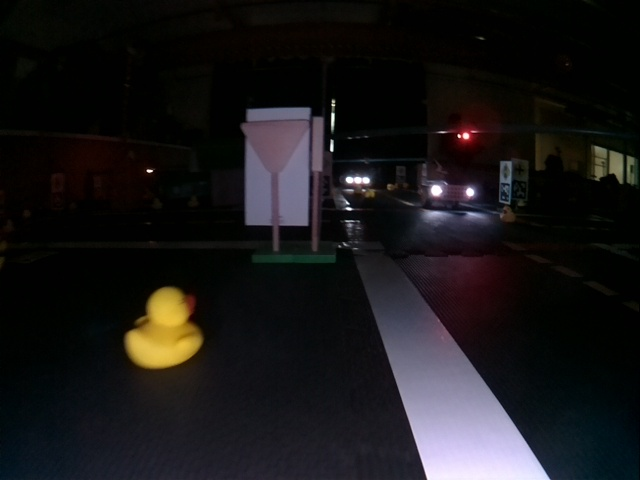Duckie: (126, 286, 202, 369), (499, 207, 516, 223), (366, 189, 376, 198)
Duckiebot: (420, 164, 475, 208), (343, 168, 372, 189)
Intersection sign: (513, 161, 528, 181)
QR code: (513, 182, 525, 198), (500, 185, 510, 201)
Signal sign: (500, 162, 510, 179)
Traffic light: (457, 123, 471, 142)
